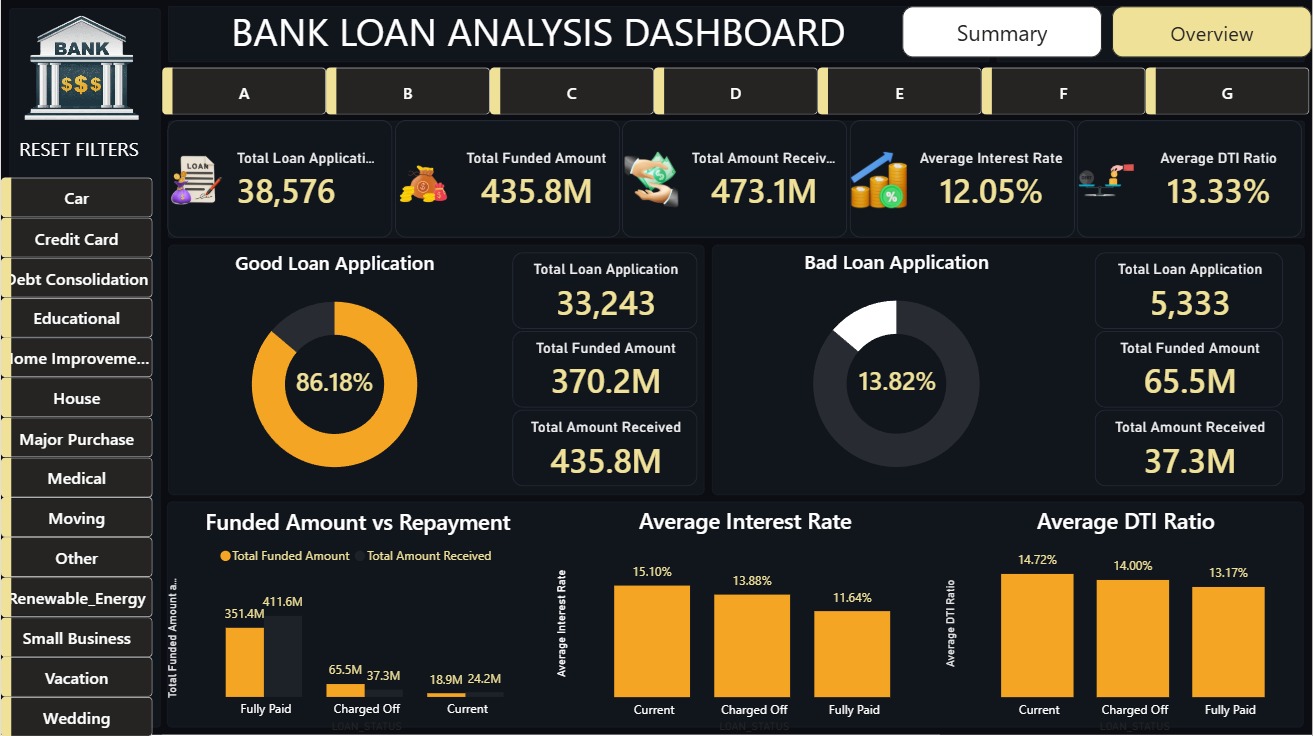

What the dashboard file says about the page in this screenshot:
{"tool":"powerbi","page":{"name":"Summary","canvas":[1920,1080],"ordinal":0},"visuals":[{"type":"cardVisual","fields":{"Data":["financial_loan.Total Loan Application","financial_loan.Total Funded Amount","financial_loan.Total Amount Received","financial_loan.Average Interest Rate","financial_loan.Average DTI Rate"]},"box":[250,187.8,1653.3,153.3],"z":0},{"type":"donutChart","title":"Good Loan Application","fields":{"Category":["financial_loan.Good_vs_Bad_Loan"],"Y":["financial_loan.Total Loan Application"]},"box":[272.9,368.6,421.4,342.9],"z":1000},{"type":"donutChart","title":"Bad Loan Application","fields":{"Category":["financial_loan.Good_vs_Bad_Loan"],"Y":["financial_loan.Total Loan Application"]},"box":[1077.1,368.6,421.4,342.9],"z":2000},{"type":"cardVisual","fields":{"Data":["financial_loan.Good Loan %"]},"box":[394.3,514.3,180,88.6],"z":3000},{"type":"cardVisual","fields":{"Data":["financial_loan.Bad Loan %"]},"box":[1197.1,514.3,180,88.6],"z":4000},{"type":"cardVisual","fields":{"Data":["financial_loan.Total Loan Application","financial_loan.Total Funded Amount","financial_loan.Total Amount Received"],"Rows":["financial_loan.Good_vs_Bad_Loan"]},"box":[651.4,368.6,350,342.9],"z":5000},{"type":"cardVisual","fields":{"Data":["financial_loan.Total Loan Application","financial_loan.Total Funded Amount","financial_loan.Total Amount Received"],"Rows":["financial_loan.Good_vs_Bad_Loan"]},"box":[1538.6,368.6,350,342.9],"z":6000},{"type":"clusteredColumnChart","title":"Funded Amount vs Repayment","fields":{"Category":["financial_loan.LOAN_STATUS"],"Y":["financial_loan.Total Funded Amount","financial_loan.Total Amount Received"]},"box":[250,761.4,412.9,305.7],"z":7000},{"type":"clusteredColumnChart","title":"Loan Application","fields":{"Category":["financial_loan.LOAN_STATUS"],"Y":["financial_loan.Total Loan Application"]},"box":[651.2,761.2,401.2,305],"z":8000},{"type":"textbox","box":[941.2,747.5,222.5,112.5],"z":9000},{"type":"clusteredColumnChart","title":"Average Interest Rate","fields":{"Category":["financial_loan.LOAN_STATUS"],"Y":["financial_loan.Average Interest Rate"]},"box":[1072.9,761.4,401.4,318.6],"z":10000},{"type":"clusteredColumnChart","title":"Average DTI Ratio","fields":{"Category":["financial_loan.LOAN_STATUS"],"Y":["financial_loan.Average DTI Ratio"]},"box":[1473.8,761.2,401.2,305],"z":11000},{"type":"image","box":[0,0,250,210],"z":12000},{"type":"advancedSlicerVisual","fields":{"Values":["financial_loan.PURPOSE"]},"box":[14.3,264.3,211.4,802.9],"z":13000},{"type":"advancedSlicerVisual","fields":{"Values":["financial_loan.GRADE"]},"box":[260,113,1643,44],"z":14000},{"type":"actionButton","box":[14.3,200,211.4,50],"z":15000},{"type":"textbox","box":[250,24.3,1197.1,68.6],"z":16000},{"type":"pageNavigator","box":[1488.6,24.3,400,50],"z":17000}]}

Visuals, with their boxes in screenshot pixels (x1, y1, x2, y2), scaled from the page's 1920x1080 canvas onto the 1316x736 screenshot:
cardVisual - financial_loan.Total Loan Application x financial_loan.Total Funded Amount: <bbox>171, 128, 1305, 232</bbox>
"Good Loan Application" donutChart: <bbox>187, 251, 476, 485</bbox>
"Bad Loan Application" donutChart: <bbox>738, 251, 1027, 485</bbox>
cardVisual - financial_loan.Good Loan %: <bbox>270, 350, 394, 411</bbox>
cardVisual - financial_loan.Bad Loan %: <bbox>821, 350, 944, 411</bbox>
cardVisual - financial_loan.Total Loan Application x financial_loan.Total Funded Amount: <bbox>446, 251, 686, 485</bbox>
cardVisual - financial_loan.Total Loan Application x financial_loan.Total Funded Amount: <bbox>1055, 251, 1294, 485</bbox>
"Funded Amount vs Repayment" clusteredColumnChart: <bbox>171, 519, 454, 727</bbox>
"Loan Application" clusteredColumnChart: <bbox>446, 519, 721, 727</bbox>
textbox: <bbox>645, 509, 798, 586</bbox>
"Average Interest Rate" clusteredColumnChart: <bbox>735, 519, 1011, 735</bbox>
"Average DTI Ratio" clusteredColumnChart: <bbox>1010, 519, 1285, 727</bbox>
image: <bbox>0, 0, 171, 143</bbox>
advancedSlicerVisual - financial_loan.PURPOSE: <bbox>10, 180, 155, 727</bbox>
advancedSlicerVisual - financial_loan.GRADE: <bbox>178, 77, 1304, 107</bbox>
actionButton: <bbox>10, 136, 155, 170</bbox>
textbox: <bbox>171, 17, 992, 63</bbox>
pageNavigator: <bbox>1020, 17, 1294, 51</bbox>
